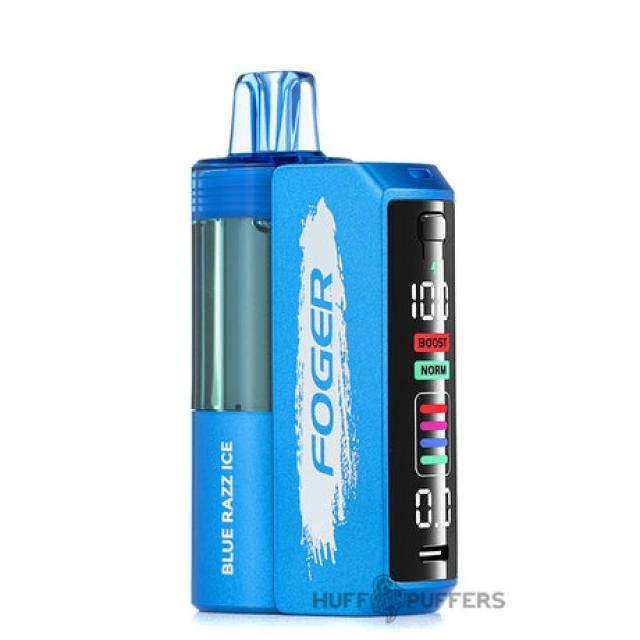Vapes: (164, 51, 532, 626)
